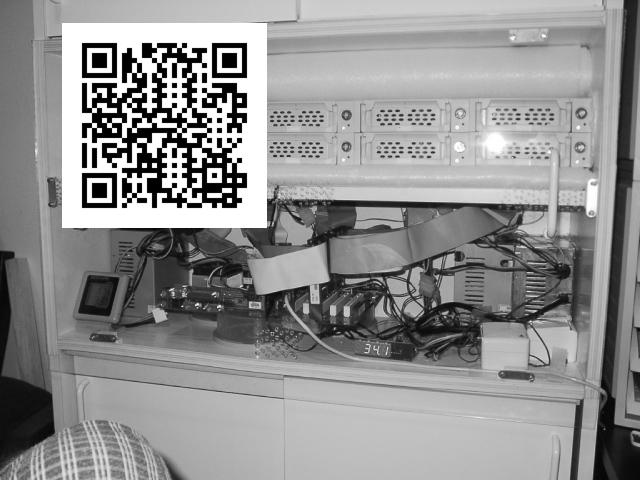qr_code: (64, 23, 265, 226)
